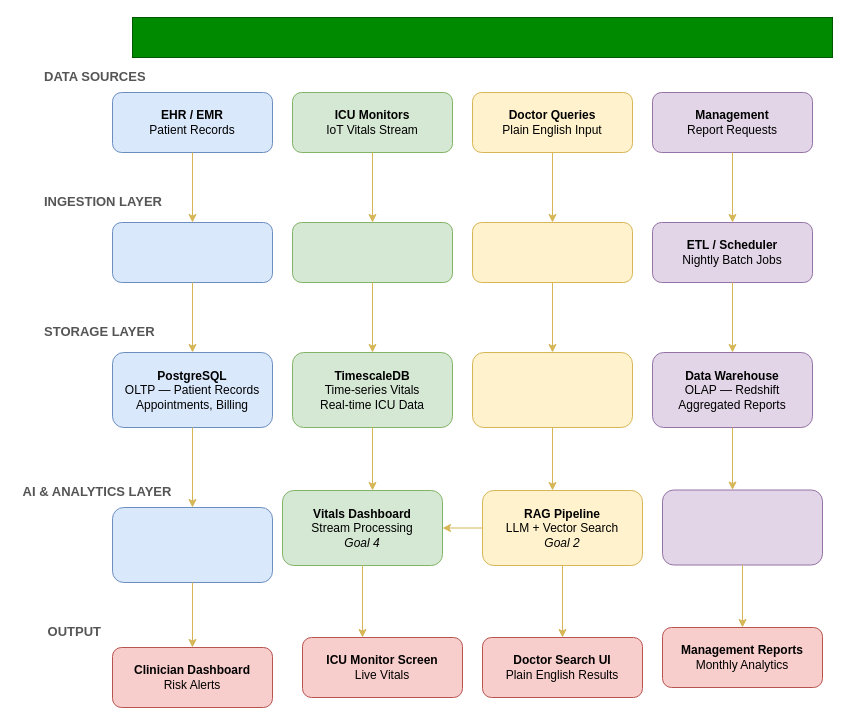
The diagram is 850 pixels wide and 725 high, and some of its shapes have lost their labels. The shapes that lost their labels are listed below. From the top down, each one's centre as x and y in pixels, then its label:
[482,37]: Hospital AI Data Architecture
[192,252]: ETL Pipeline Batch EHR Ingestion
[372,252]: Apache Kafka Real-time Streaming
[552,252]: API Gateway NLP Query Handler
[552,390]: Vector DB (Pinecone) Patient Record Embeddings
[192,544]: Readmission Risk Model ML on historical EHR data Goal 1
[742,527]: BI Reporting Engine Tableau / Power BI Goal 3
